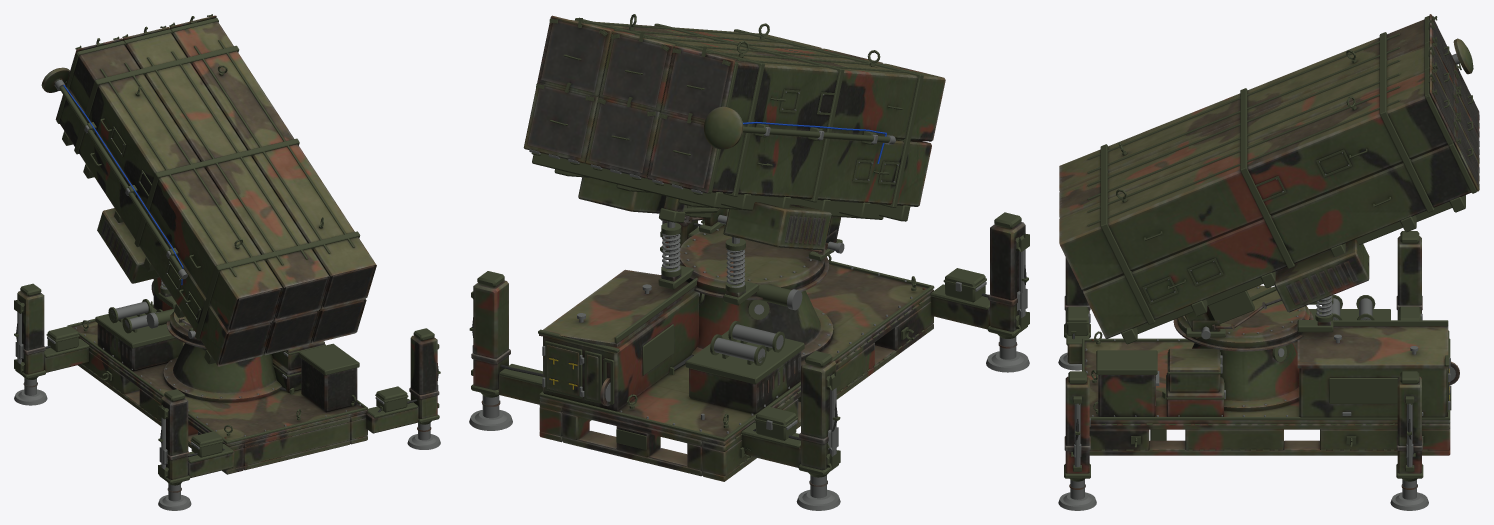
The model's file is nasams.glb.
3 renders of one model, left to right at view 1: azimuth 30°, elevation 25°; view 2: azimuth 150°, elevation 25°; view 3: azimuth 270°, elevation 25°, orthographic. The views are drawn at different scales.
Parts seen in each view (by area): view 1: missile_c21, missile_c22, missile_c23, body_frame, body_cases, missile_c11, cradle_frame, cradle_hw, body_ped, body_legLB, body_legLF, body_legRB (+5 smaller); view 2: body_frame, cradle_frame, body_box, missile_c21, missile_c11, body_cases, turret_ring, body_legLB, body_legLF, body_legRF, body_ped, cradle_hw (+11 smaller); view 3: missile_c23, missile_c13, body_frame, body_box, cradle_frame, body_cases, missile_c22, missile_c21, cradle_hw, turret_ring, body_ped, body_legRF (+11 smaller).
Part boxes in pixels (bbox=[...]): missile_c21: bbox=[69, 44, 282, 331]; missile_c22: bbox=[125, 33, 329, 320]; missile_c23: bbox=[172, 21, 376, 308]; body_frame: bbox=[67, 304, 367, 474]; body_cases: bbox=[46, 299, 408, 457]; missile_c11: bbox=[59, 89, 272, 366]; cradle_frame: bbox=[62, 45, 360, 364]; cradle_hw: bbox=[56, 16, 354, 321]; body_ped: bbox=[163, 343, 282, 402]; body_legLB: bbox=[158, 389, 234, 510]; body_legLF: bbox=[14, 283, 89, 405]; body_legRB: bbox=[366, 328, 440, 449]; body_frame: bbox=[539, 261, 934, 481]; cradle_frame: bbox=[532, 18, 923, 255]; body_box: bbox=[538, 269, 698, 411]; missile_c21: bbox=[694, 50, 945, 141]; missile_c11: bbox=[712, 133, 931, 206]; body_cases: bbox=[685, 209, 986, 440]; turret_ring: bbox=[658, 208, 842, 305]; body_legLB: bbox=[930, 212, 1029, 372]; body_legLF: bbox=[741, 350, 840, 510]; body_legRF: bbox=[469, 271, 542, 430]; body_ped: bbox=[691, 290, 833, 360]; cradle_hw: bbox=[531, 14, 916, 194]; missile_c23: bbox=[1059, 72, 1447, 290]; missile_c13: bbox=[1083, 144, 1471, 338]; body_frame: bbox=[1082, 338, 1450, 455]; body_box: bbox=[1297, 320, 1459, 417]; cradle_frame: bbox=[1100, 32, 1465, 344]; body_cases: bbox=[1066, 295, 1422, 426]; missile_c22: bbox=[1059, 45, 1424, 218]; missile_c21: bbox=[1059, 19, 1424, 191]; cradle_hw: bbox=[1087, 16, 1477, 303]; turret_ring: bbox=[1173, 285, 1333, 351]; body_ped: bbox=[1192, 343, 1299, 411]; body_legRF: bbox=[1390, 371, 1428, 510].
Bounding box in the file's own units: 4.16 × 4.74 × 4.69.
9 materials, 2 textured.
